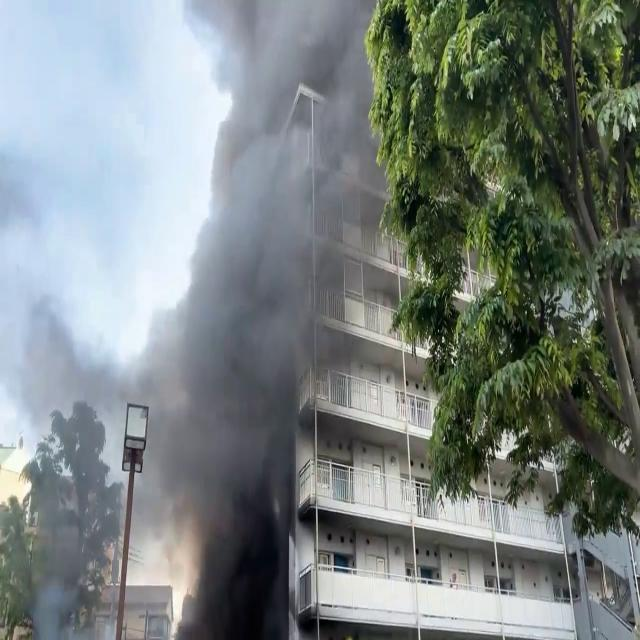Smoke: (1, 0, 397, 628)
